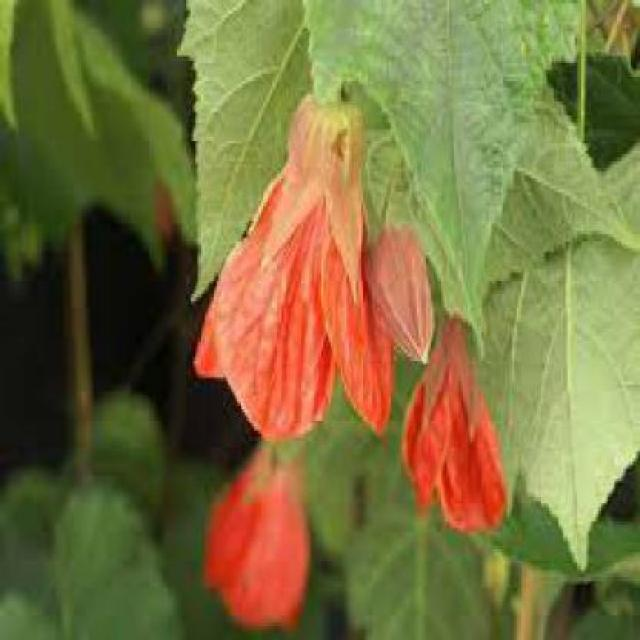Flower: (191, 91, 394, 442), (395, 311, 508, 535), (202, 444, 310, 630)
